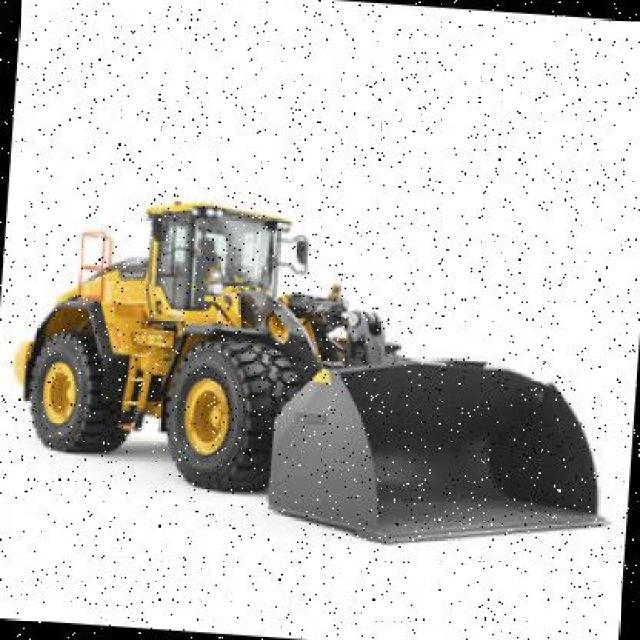buldozerpayloadergrader: (0, 177, 634, 581)
